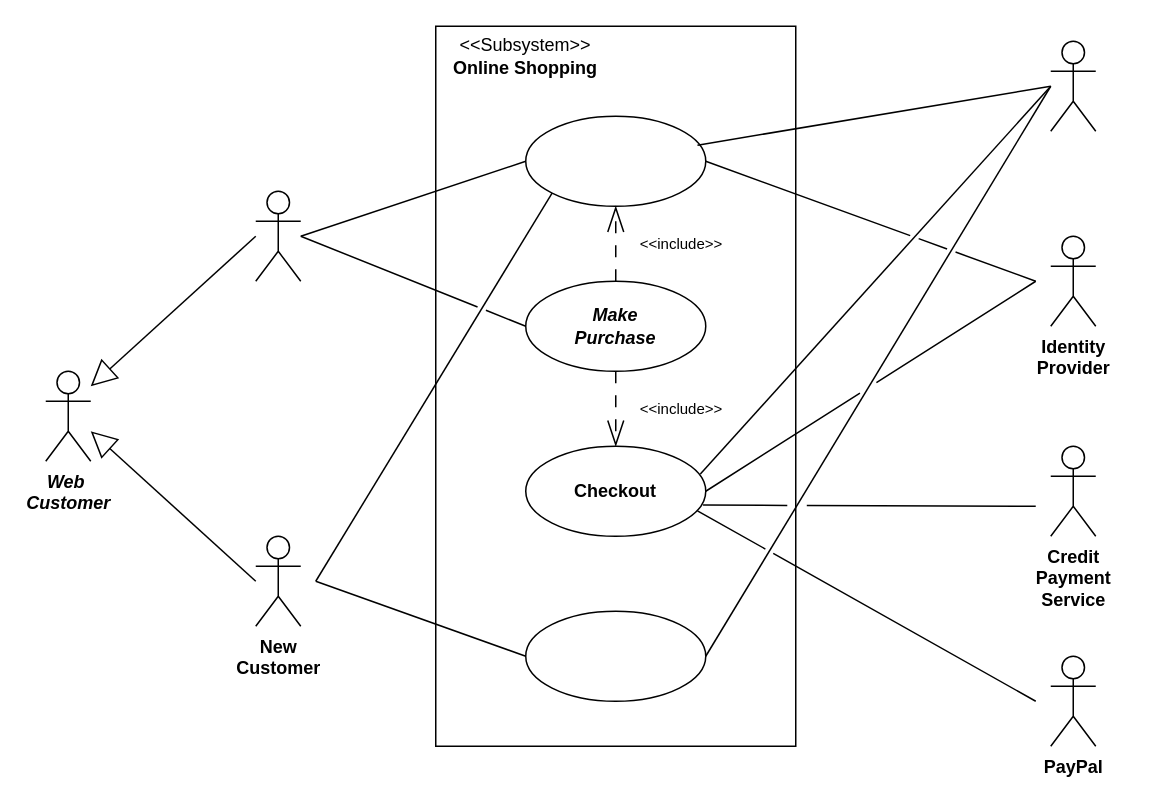
This 1161x804 diagram has some shape labels left out. Each missing label, with the centre of its shape:
<<Service>> Authentication: the point at 1072,85
Client Register: the point at 615,655
Registered Customer: the point at 277,235
View Items: the point at 615,160
